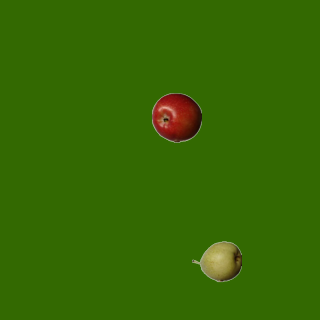Apple Braeburn: (151, 92, 201, 142)
Pear: (191, 236, 241, 286)
